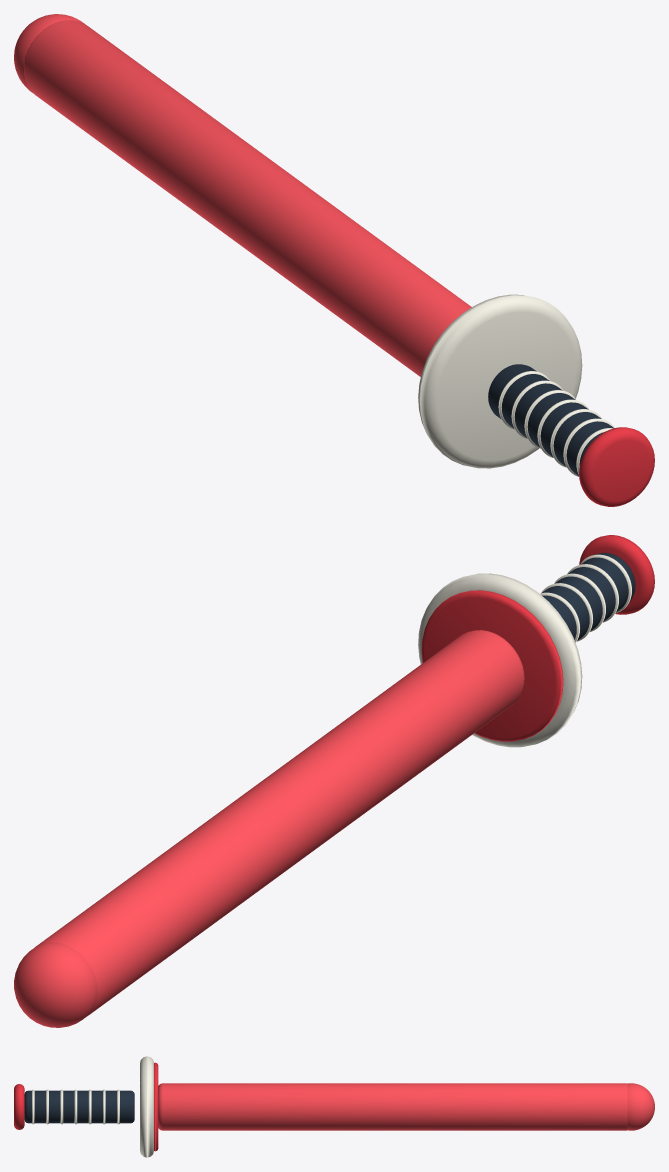
Rendered from ChambaraRedSword.fbx.
The picture shows the model from 3 angles, top to bottom: view 1: azimuth 30°, elevation 25°; view 2: azimuth 150°, elevation 25°; view 3: azimuth 270°, elevation 25°; orthographic projection. The views are drawn at different scales.
Visible parts, largest first — view 1: Baked_RED_Sword_blade, Baked_RED_Sword_guard, Baked_RED_Sword_grip, Baked_RED_Sword_pommel, Baked_RED_Sword_rounded_tip; view 2: Baked_RED_Sword_blade, Baked_RED_Sword_guard_color, Baked_RED_Sword_rounded_tip, Baked_RED_Sword_guard, Baked_RED_Sword_grip, Baked_RED_Sword_pommel; view 3: Baked_RED_Sword_blade, Baked_RED_Sword_grip, Baked_RED_Sword_guard, Baked_RED_Sword_rounded_tip, Baked_RED_Sword_pommel, Baked_RED_Sword_guard_color.
Part boxes in pixels (x1=…): Baked_RED_Sword_blade: x1=23, y1=20, x2=471, y2=376; Baked_RED_Sword_guard: x1=418, y1=294, x2=582, y2=468; Baked_RED_Sword_grip: x1=488, y1=364, x2=613, y2=475; Baked_RED_Sword_pommel: x1=579, y1=427, x2=654, y2=506; Baked_RED_Sword_rounded_tip: x1=14, y1=14, x2=84, y2=93; Baked_RED_Sword_blade: x1=34, y1=630, x2=524, y2=1017; Baked_RED_Sword_guard_color: x1=421, y1=590, x2=563, y2=741; Baked_RED_Sword_rounded_tip: x1=14, y1=942, x2=97, y2=1027; Baked_RED_Sword_guard: x1=418, y1=573, x2=582, y2=747; Baked_RED_Sword_grip: x1=542, y1=552, x2=635, y2=640; Baked_RED_Sword_pommel: x1=579, y1=535, x2=654, y2=614; Baked_RED_Sword_blade: x1=158, y1=1083, x2=627, y2=1130; Baked_RED_Sword_grip: x1=24, y1=1090, x2=134, y2=1123; Baked_RED_Sword_guard: x1=140, y1=1056, x2=153, y2=1157; Baked_RED_Sword_rounded_tip: x1=627, y1=1083, x2=654, y2=1130; Baked_RED_Sword_pommel: x1=14, y1=1084, x2=24, y2=1129; Baked_RED_Sword_guard_color: x1=154, y1=1062, x2=158, y2=1151.
Size of the model in its own units: 37.03 by 37.03 by 234.
